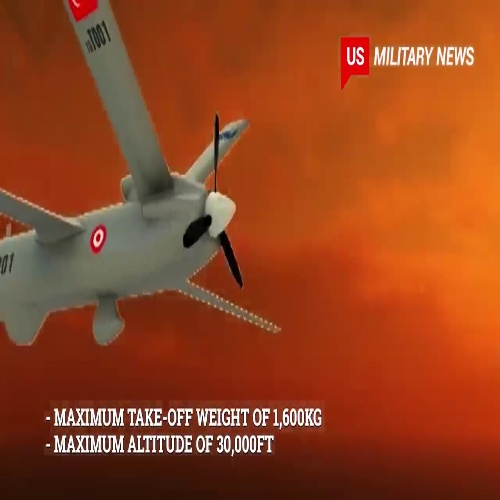uav335: (1, 4, 282, 349)
